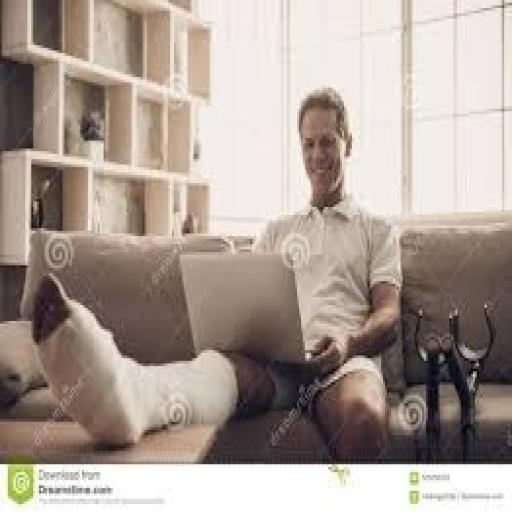sitting: (234, 85, 404, 461)
